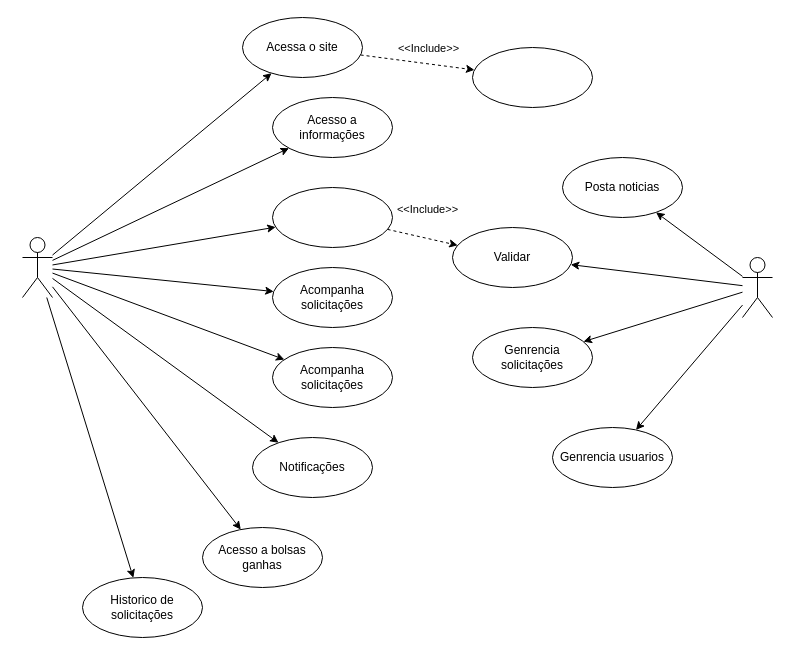
Image size: 790x655. Some labels were removed from this diagram. Here are the shapes that lost their labels. From the top down, the box of each, then its label:
(472, 46, 592, 108): Efetua login
(272, 186, 392, 248): Solicita bolsa/serviços
(22, 236, 52, 298): Usuario
(742, 256, 772, 318): ADM
